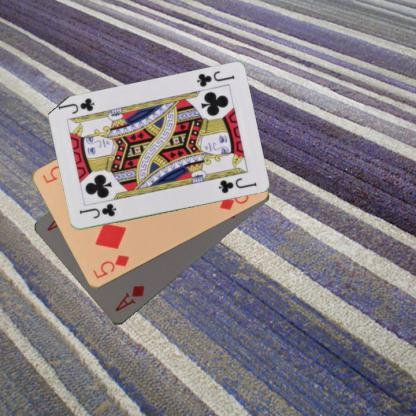5d: (90, 251, 131, 280)
Ad: (112, 282, 146, 314)
Jc: (194, 68, 236, 88), (76, 201, 118, 220)
